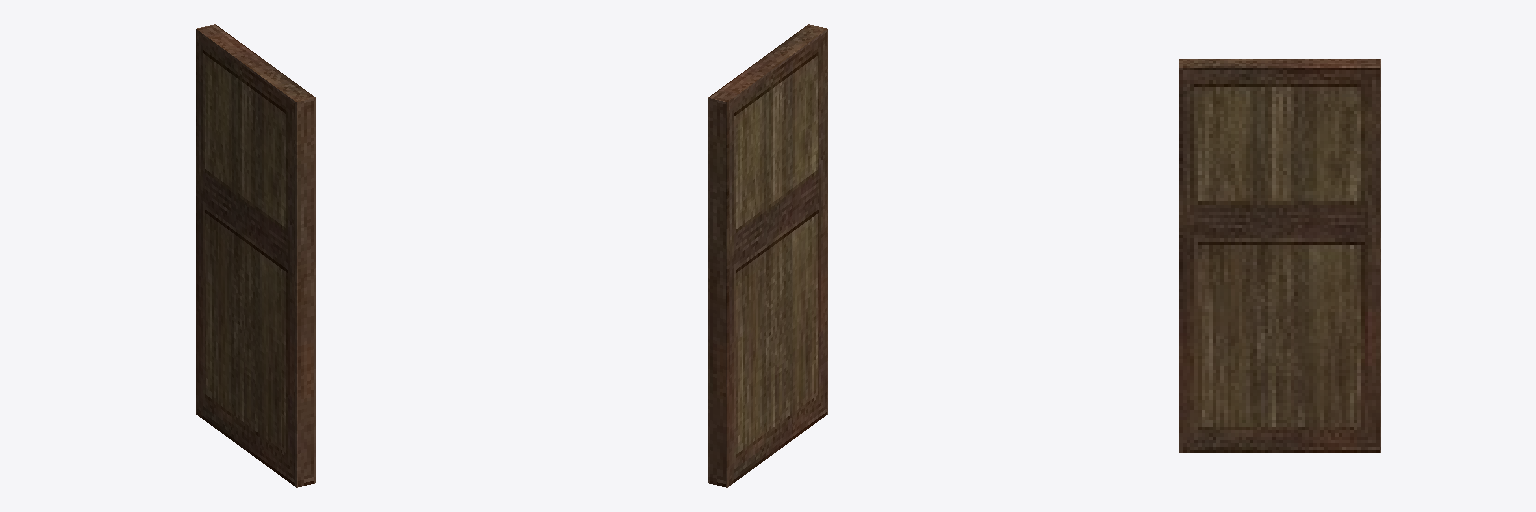
3 views of the same model, side by side, from view 1: azimuth 30°, elevation 25°; view 2: azimuth 150°, elevation 25°; view 3: azimuth 270°, elevation 25° (orthographic).
Visible parts, largest first — view 1: Object_doorA_texture.jpg; view 2: Object_doorA_texture.jpg; view 3: Object_doorA_texture.jpg.
Part boxes in pixels (bbox=[...]): Object_doorA_texture.jpg: bbox=[196, 24, 315, 487]; Object_doorA_texture.jpg: bbox=[708, 24, 827, 487]; Object_doorA_texture.jpg: bbox=[1179, 59, 1380, 452].
Bounding box in the file's own units: 0.1316 × 2.5 × 1.18.
Materials: 2 (1 with a texture image).